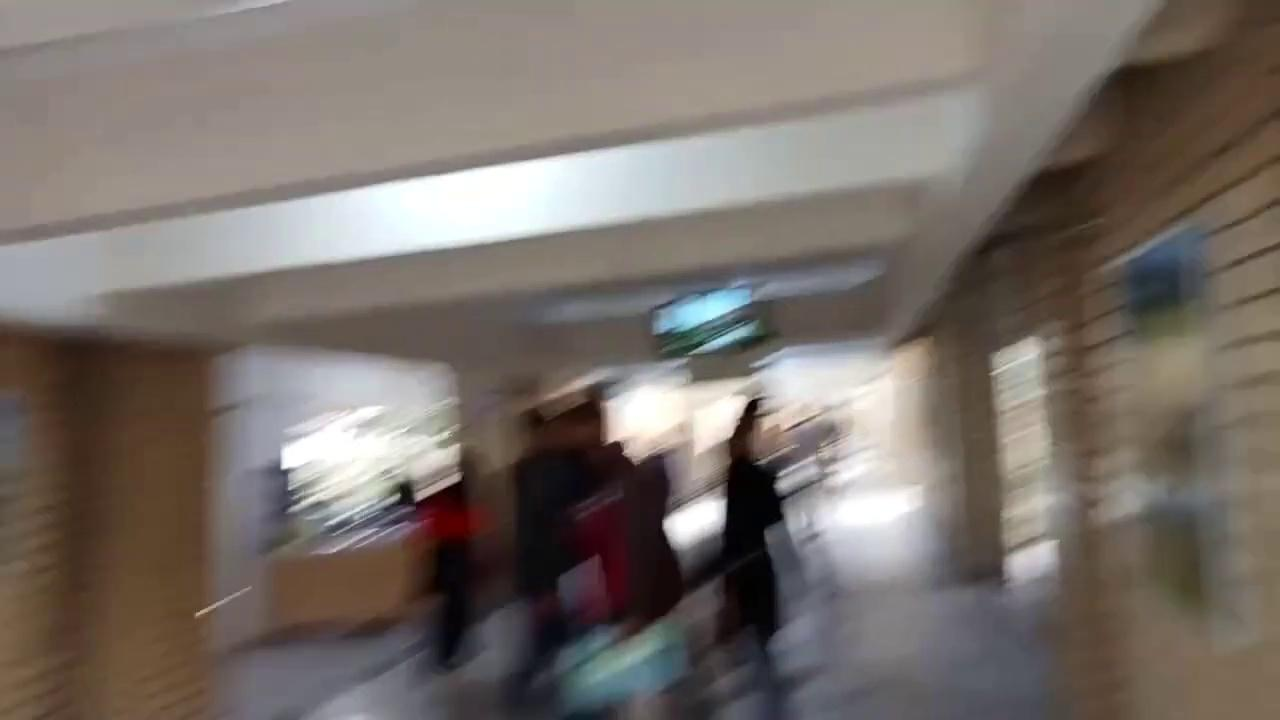person: (715, 397, 786, 652)
